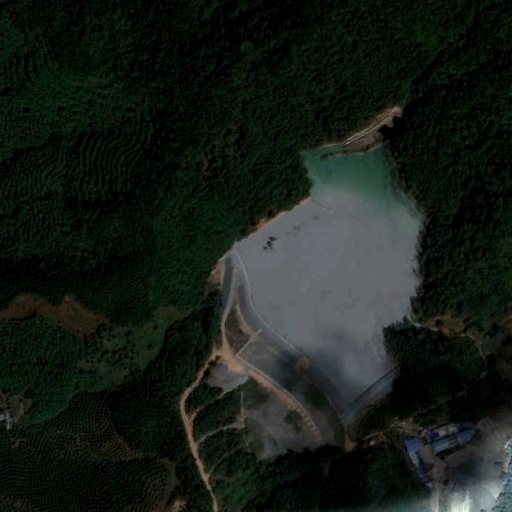tp: (217, 133, 429, 448)
